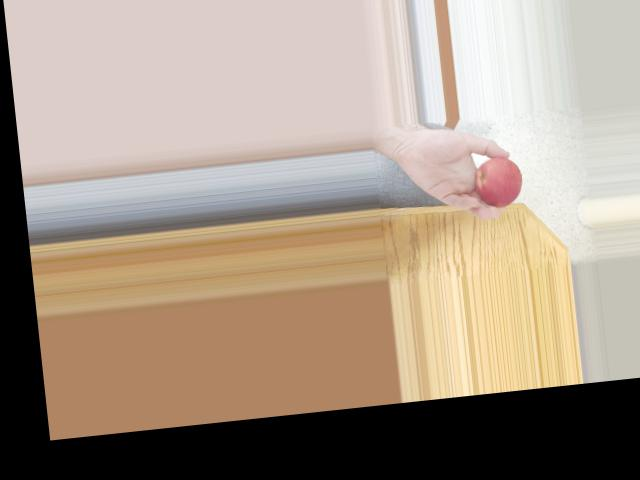apple: (468, 153, 524, 210)
